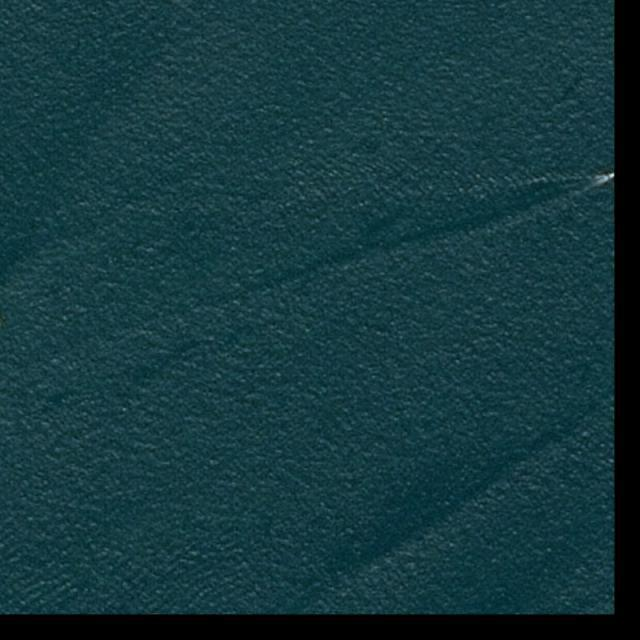ship: (608, 174, 614, 179)
